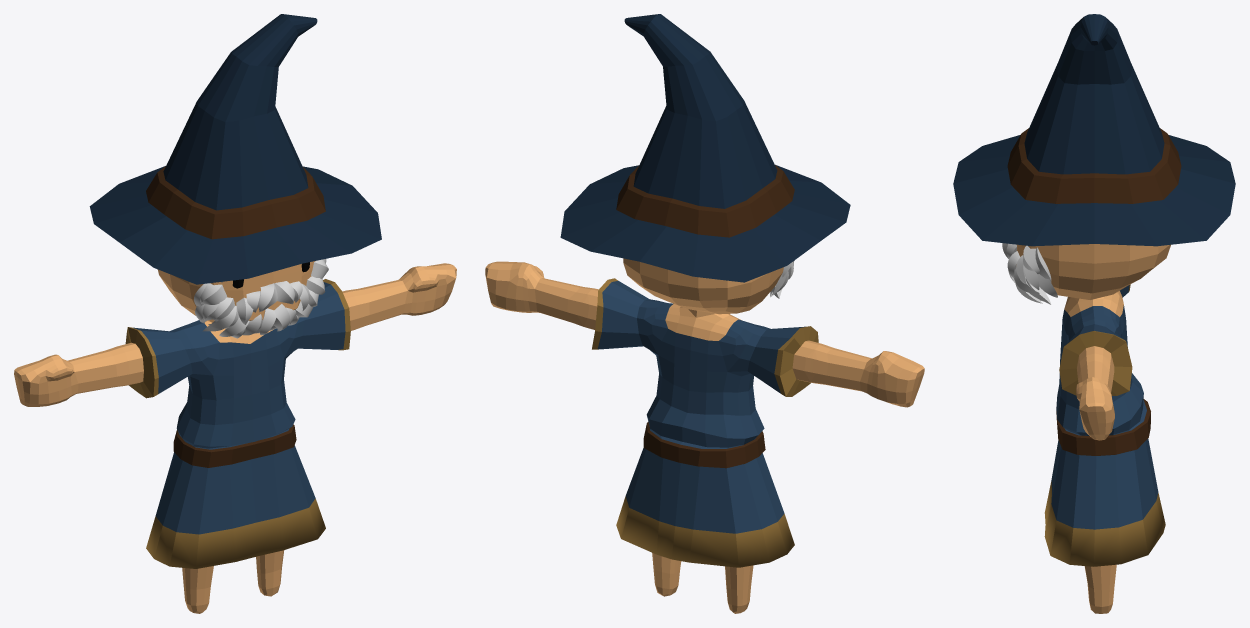
Rendered from MAGE.fbx.
3 renders of one model, left to right at view 1: azimuth 30°, elevation 25°; view 2: azimuth 150°, elevation 25°; view 3: azimuth 270°, elevation 25°, orthographic. The views are drawn at different scales.
Parts seen in each view (by area): view 1: Body; view 2: Body; view 3: Body.
Part boxes in pixels (<box>): Body: <box>14,14,456,613</box>; Body: <box>485,14,924,613</box>; Body: <box>953,14,1235,613</box>.
Bounding box in the file's own units: 324 × 410 × 173.
